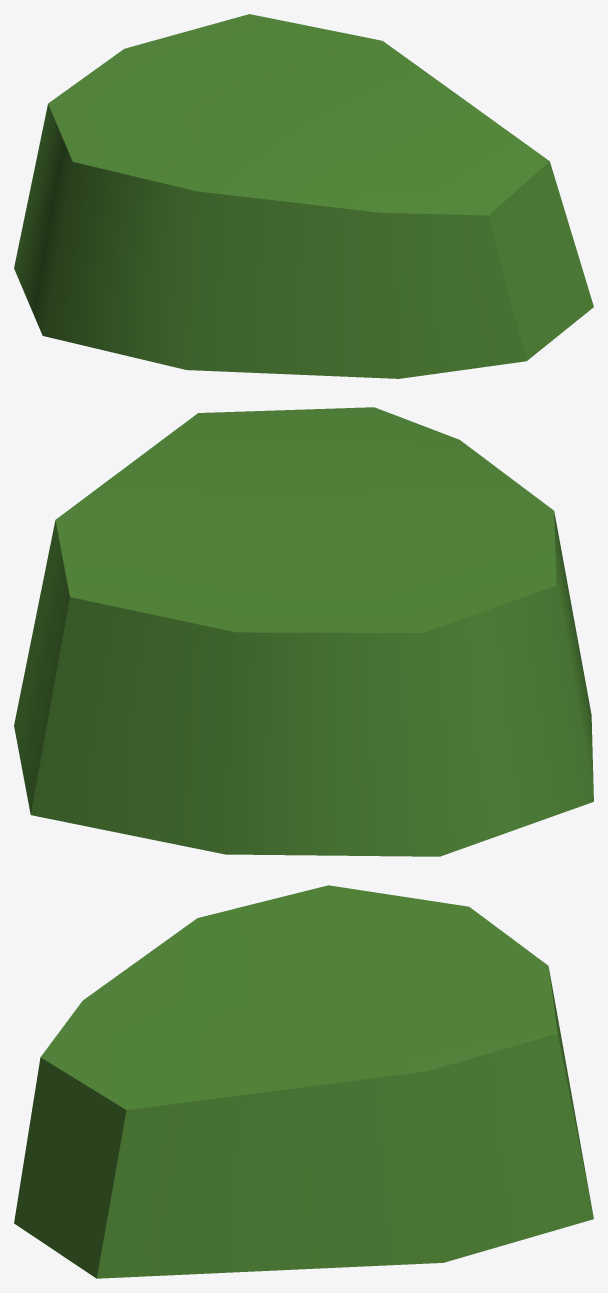
Rendered from grass_layer_crumb_small_C.fbx.
3 views of the same model, one above another, from view 1: azimuth 30°, elevation 25°; view 2: azimuth 150°, elevation 25°; view 3: azimuth 270°, elevation 25° (orthographic). The views are drawn at different scales.
Parts seen in each view (by area): view 1: grass_layer_crumb_small_C; view 2: grass_layer_crumb_small_C; view 3: grass_layer_crumb_small_C.
Part boxes in pixels (x1=…): grass_layer_crumb_small_C: x1=14, y1=14, x2=593, y2=378; grass_layer_crumb_small_C: x1=14, y1=407, x2=593, y2=856; grass_layer_crumb_small_C: x1=14, y1=885, x2=593, y2=1278.
Bounding box in the file's own units: 47.07 × 16.91 × 49.92.
